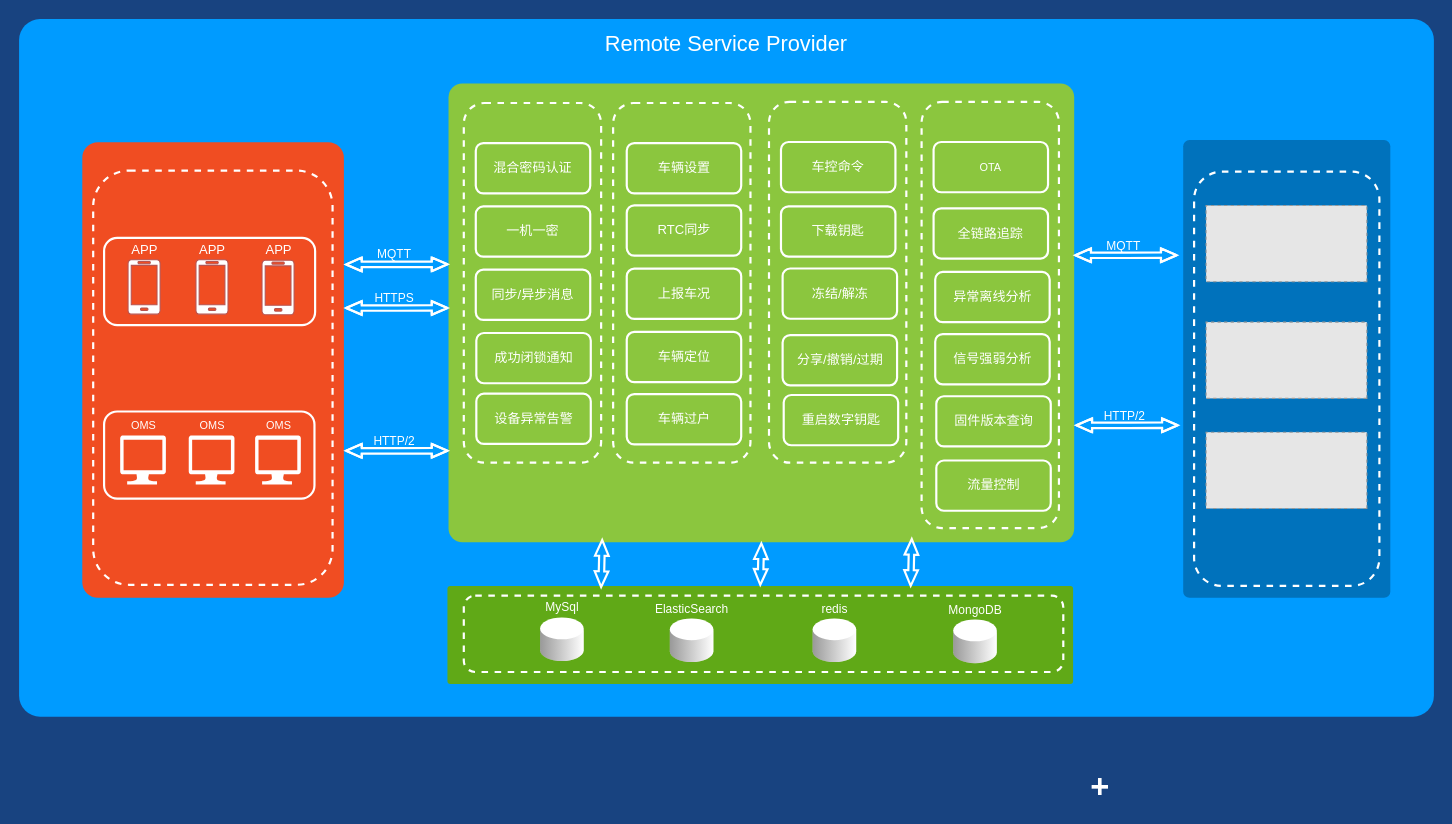
Some shapes in this 1452 by 824 pixel diagram are drawn without their labels. Grey dashed boxes stand in for pictures. Each missing label, with the box of its shape:
安全通信: (462, 101, 602, 463)
控制端: (82, 142, 343, 597)
车端: (1183, 140, 1390, 597)
车辆管理: (611, 101, 751, 463)
运维监控: (920, 100, 1059, 529)
钥匙管理: (767, 100, 907, 463)
